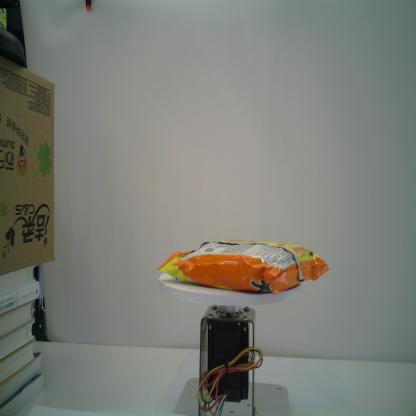Instant Noodles: (154, 238, 330, 297)
